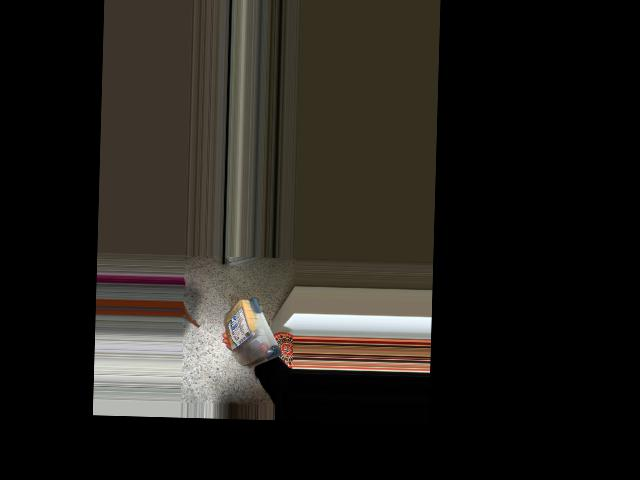cheese: (221, 293, 281, 379)
